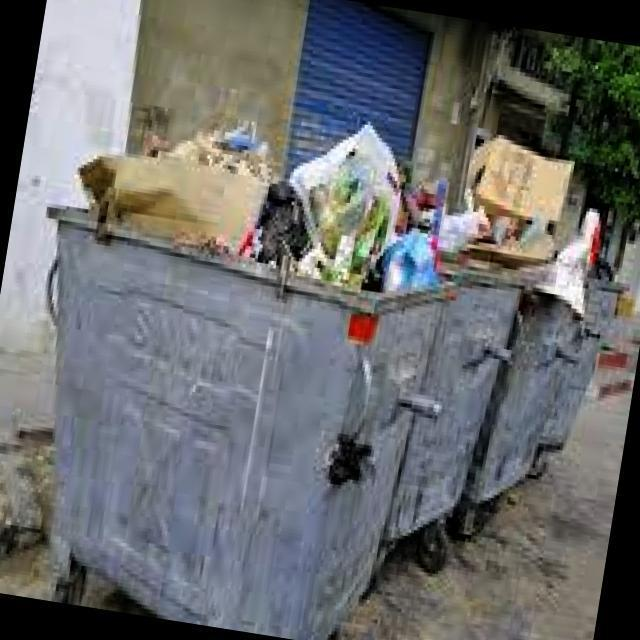garbage: (8, 106, 640, 640)
